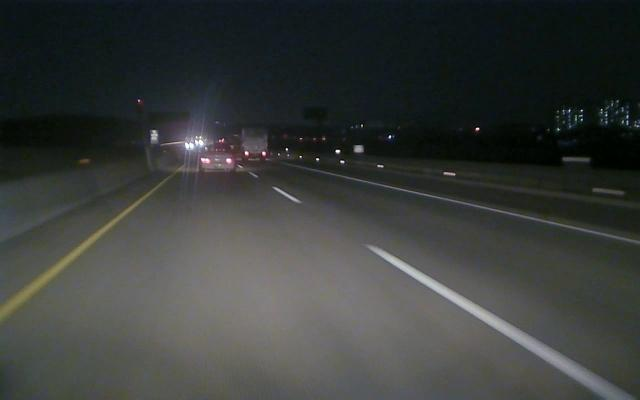lane: (278, 189, 634, 399), (1, 179, 166, 322), (320, 171, 640, 244)
